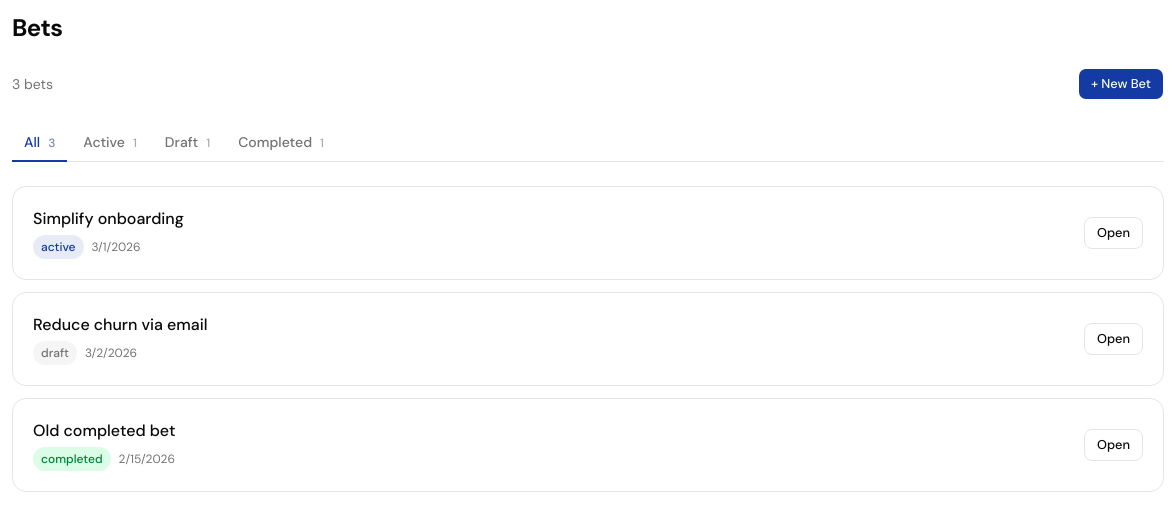
Scenario: BetsPage › filters bets by status when tab is clicked
Expected: the heading "Simplify onboarding" is shown, [33,208,184,229]
Click the button "Draft1": (188, 143) [153,124,222,162]
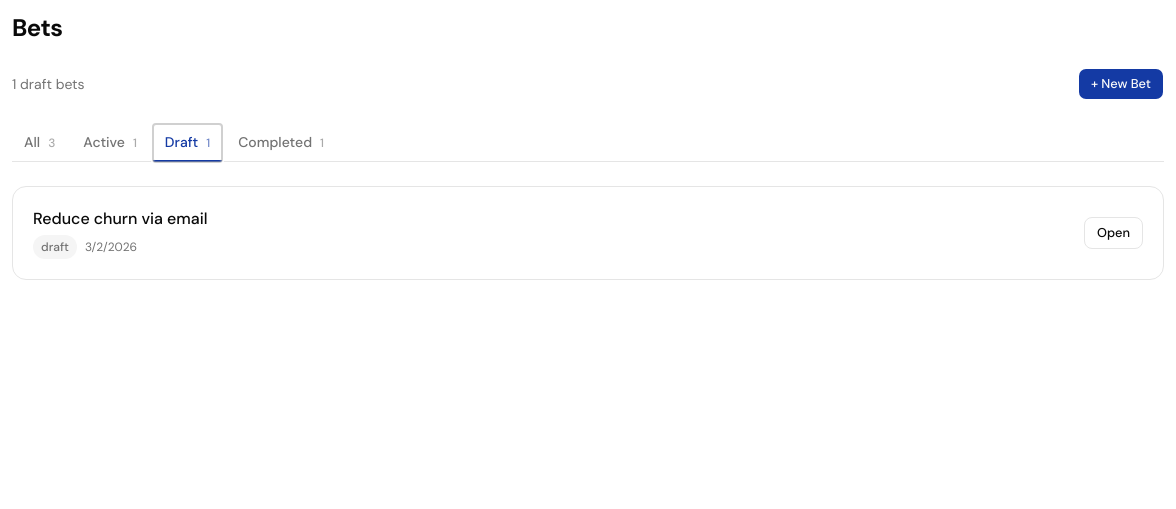
Expected: the heading "Reduce churn via email" is shown, [33,208,208,229]
Expected: the heading "Simplify onboarding" is gone
